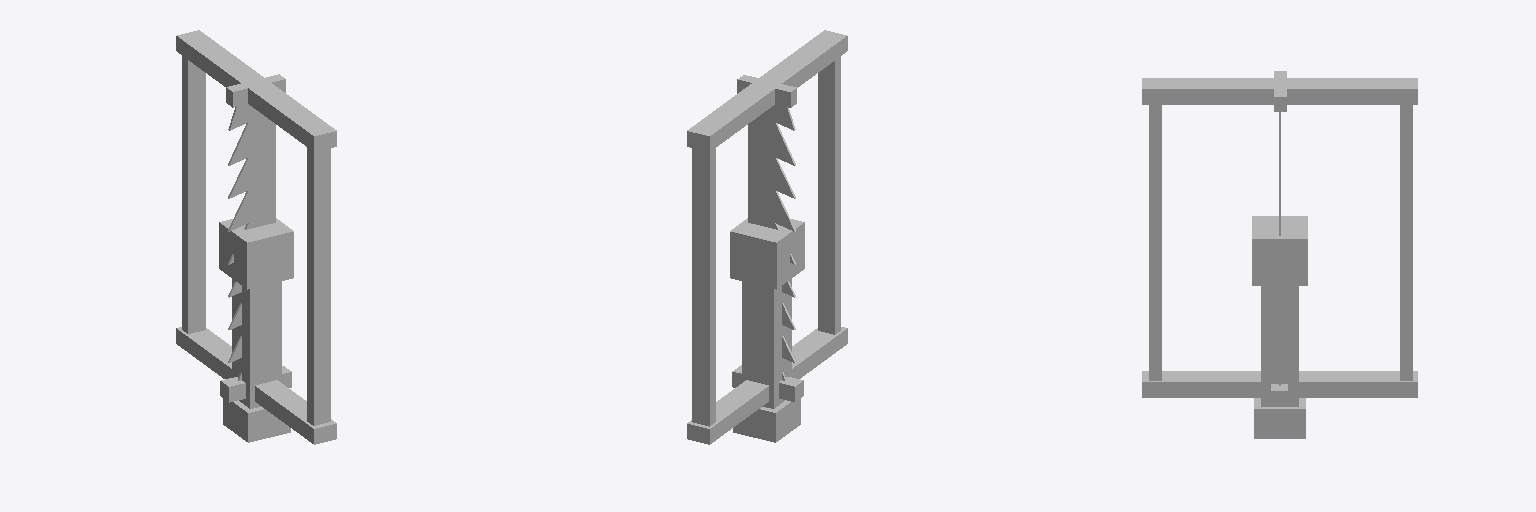
The model's file is woodmill.obj.
The picture shows the model from 3 angles: view 1: azimuth 30°, elevation 25°; view 2: azimuth 150°, elevation 25°; view 3: azimuth 270°, elevation 25°; orthographic projection.
Visible parts, largest first — view 1: saw, arm; view 2: saw, arm; view 3: saw, arm.
Part boxes in pixels (x1,y1,x2,y2): saw: (176,30,336,444); arm: (219,218,293,442); saw: (687,30,847,444); arm: (730,218,804,442); saw: (1142,71,1417,406); arm: (1252,216,1307,438).
Bounding box in the file's own units: 0.2151 × 1.13 × 0.8191.